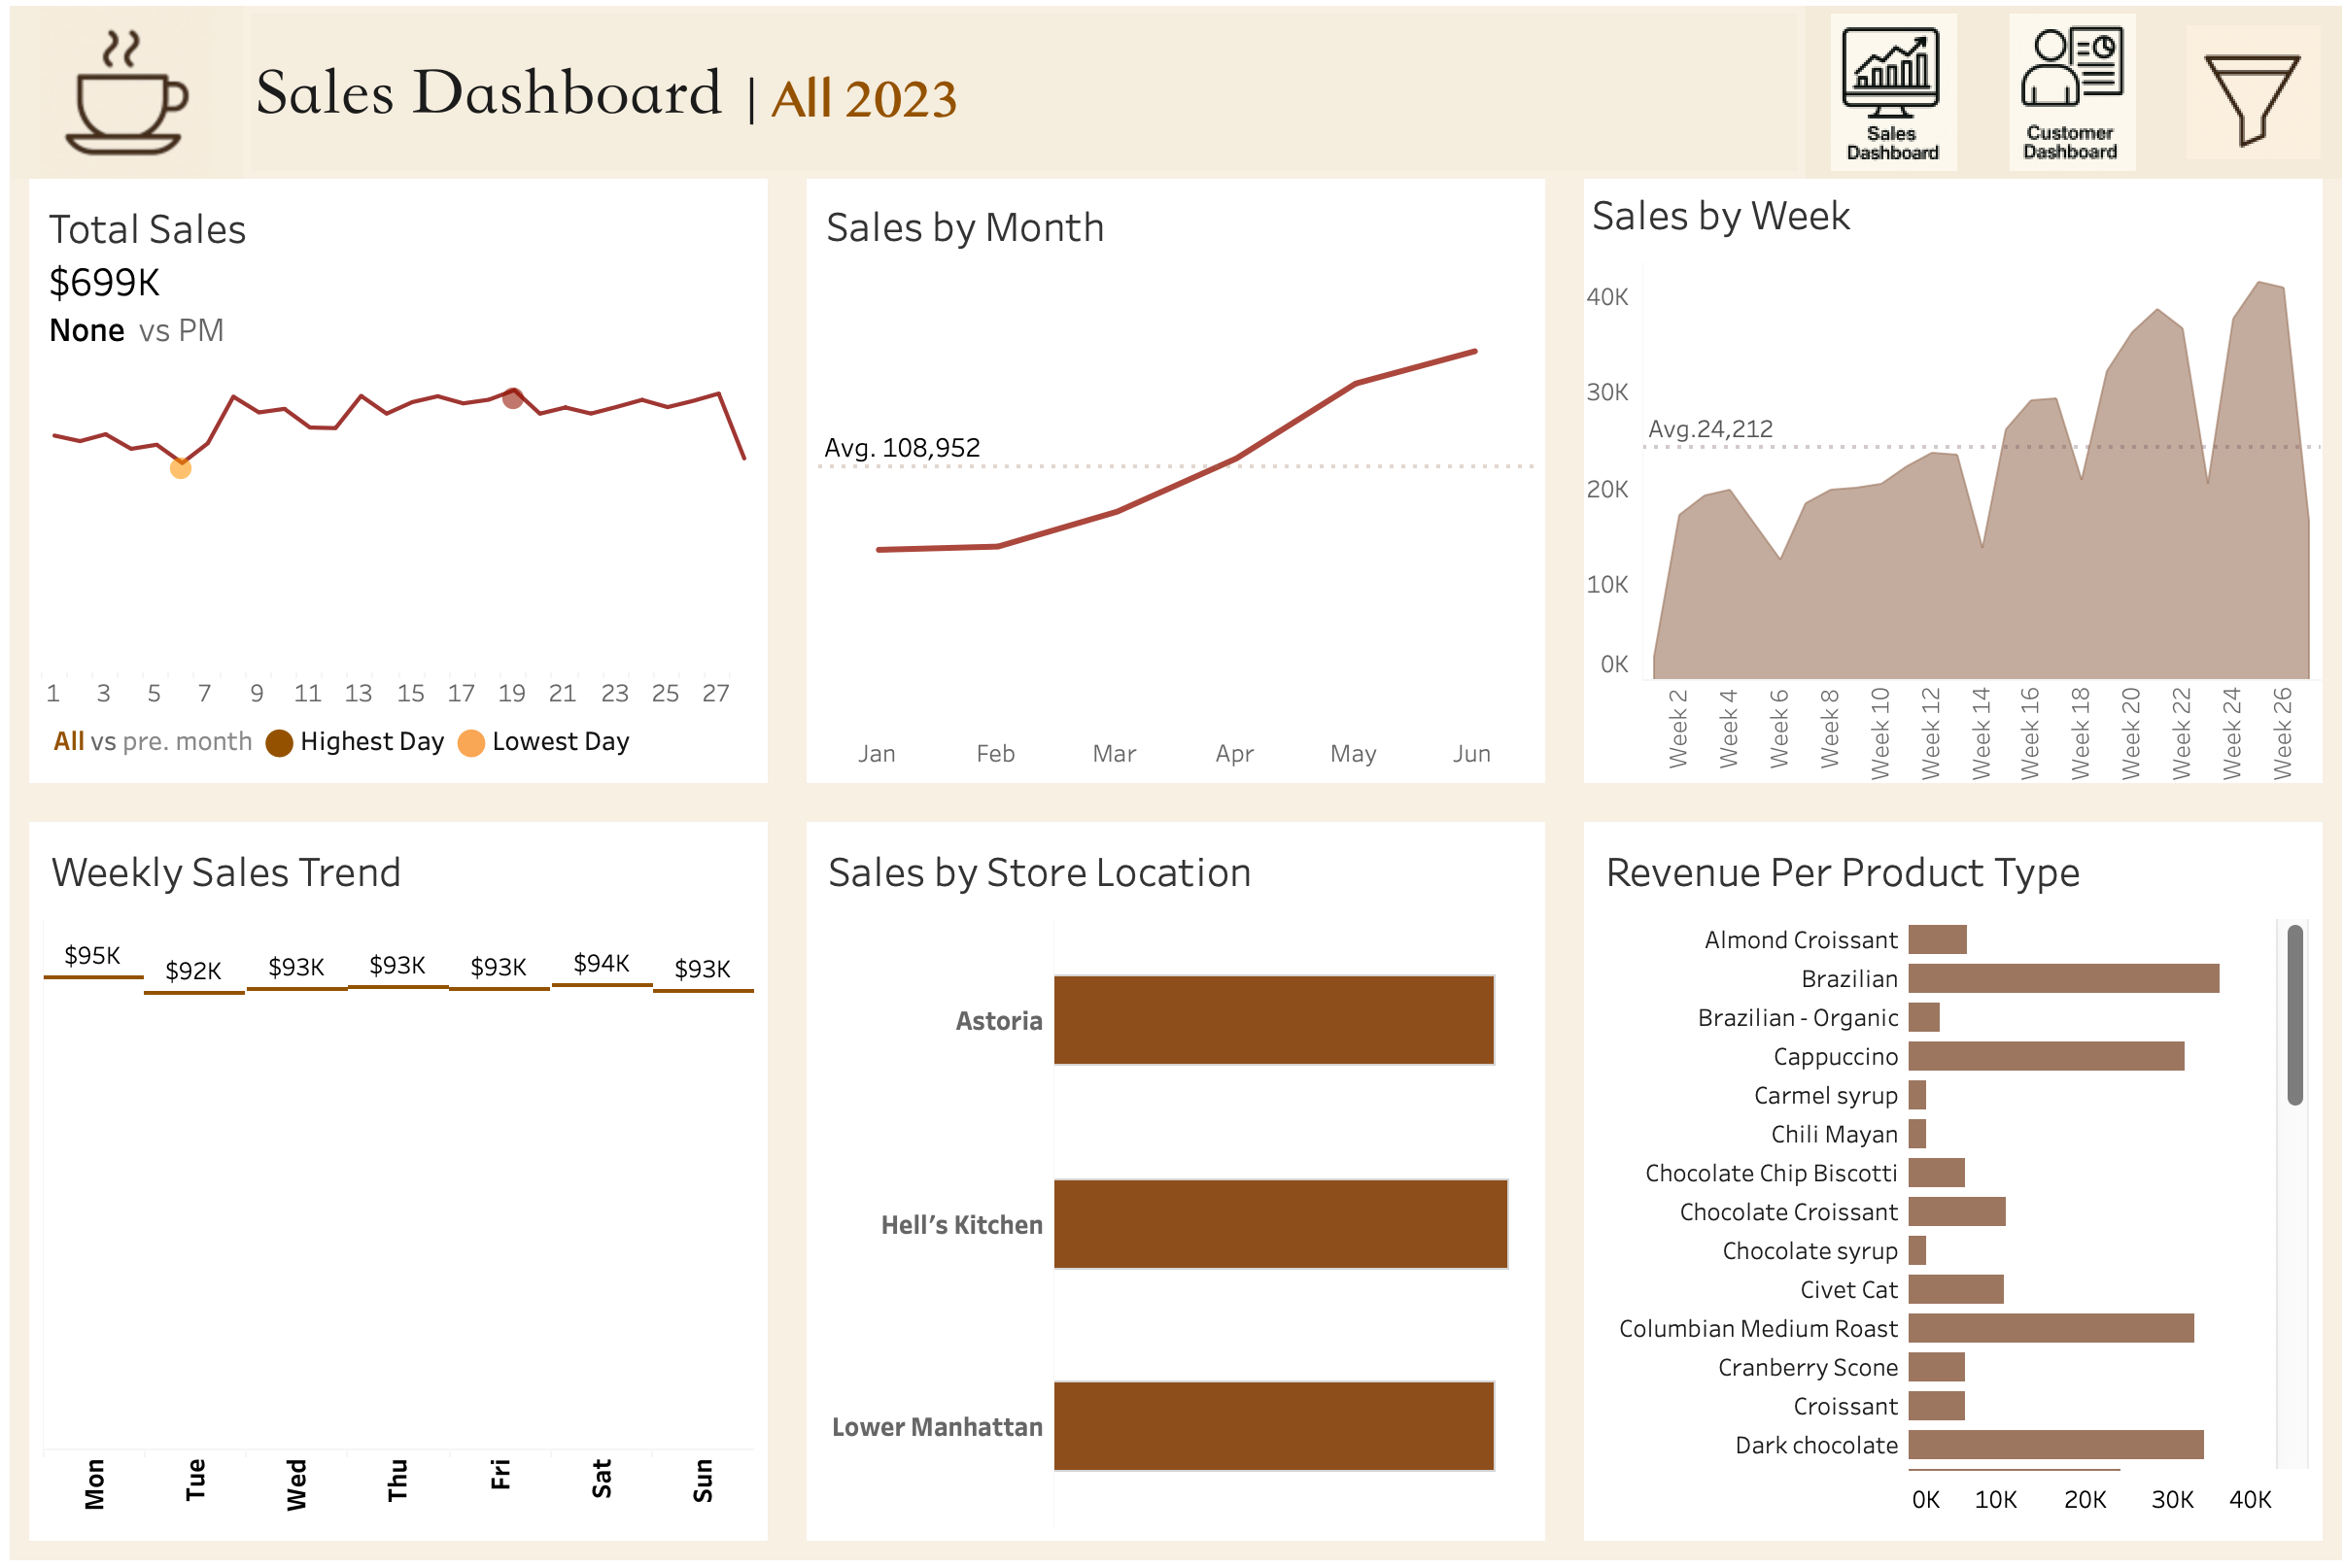

What the dashboard file says about the page in this screenshot:
{"tool":"tableau","page":{"name":"Sales Dashboard","canvas":[1200,800],"ordinal":1},"visuals":[{"type":"image","param":"Image/Icon2.png","box":[0,0,120,89]},{"type":"text","box":[120,0,804,89]},{"type":"dashboard-object","box":[924,0,92,89]},{"type":"dashboard-object","box":[1016,0,92,89]},{"type":"dashboard-object","box":[1108,0,92,89]},{"type":"worksheet","title":"Sales by Month","mark":"Line","rows":["Total_Bill","Calculation_2566559271124299778"],"cols":["transaction_date"],"box":[400,89,400,321]},{"type":"worksheet","title":"Sales by Week","mark":"Area","rows":["Total_Bill"],"cols":["transaction_date"],"box":[800,89,400,321]},{"type":"worksheet","title":"KPI Sales","mark":"Line","rows":["Calculation_5126011232724000768"],"cols":["transaction_date"],"box":[16,95,368,267]},{"type":"text","box":[908,97,284,47.3]},{"type":"parameter","param":"[Parameters].[Parameter 1]","box":[908,144.3,284,47.3]},{"type":"text","box":[908,191.7,284,43]},{"type":"filter","title":"KPI Sales","param":"[federated.1cw3f6g1wk77oe1g50jml00lt89d].[none:product_category:nk]","box":[908,234.7,284,47.3]},{"type":"filter","title":"KPI Sales","param":"[federated.1cw3f6g1wk77oe1g50jml00lt89d].[none:Size:nk]","box":[908,282,284,46]},{"type":"text","box":[908,328,284,42]},{"type":"text","box":[16,362,368,32]},{"type":"filter","title":"KPI Sales","param":"[federated.1cw3f6g1wk77oe1g50jml00lt89d].[none:store_location:nk]","box":[908,370,284,32]},{"type":"worksheet","title":"Weekly Sales Trend","mark":"GanttBar","rows":["Calculation_4496562815699218435"],"cols":["transaction_date"],"box":[0,410,400,390]},{"type":"worksheet","title":" Revenue By Store Location","mark":"Bar","rows":["store_location"],"cols":["Total_Bill"],"box":[400,410,400,390]},{"type":"worksheet","title":"Revenue Per Product Type","mark":"Bar","rows":["product_detail"],"cols":["Total_Bill"],"box":[800,410,400,390]}]}

Visuals, with their boxes in screenshot pixels (x1, y1, x2, y2), scaled from the page's 1200x800 canvas onto the 2344x1568 screenshot:
image: [0, 0, 234, 175]
text: [234, 0, 1805, 175]
dashboard-object: [1805, 0, 1984, 175]
dashboard-object: [1984, 0, 2164, 175]
dashboard-object: [2164, 0, 2343, 175]
"Sales by Month" worksheet (Line marks): [781, 175, 1563, 803]
"Sales by Week" worksheet (Area marks): [1563, 175, 2343, 803]
"KPI Sales" worksheet (Line marks): [31, 187, 750, 709]
text: [1774, 190, 2328, 283]
parameter: [1774, 283, 2328, 376]
text: [1774, 376, 2328, 460]
"KPI Sales" filter: [1774, 460, 2328, 553]
"KPI Sales" filter: [1774, 553, 2328, 643]
text: [1774, 643, 2328, 725]
text: [31, 709, 750, 772]
"KPI Sales" filter: [1774, 725, 2328, 788]
"Weekly Sales Trend" worksheet (GanttBar marks): [0, 803, 781, 1567]
" Revenue By Store Location" worksheet (Bar marks): [781, 803, 1563, 1567]
"Revenue Per Product Type" worksheet (Bar marks): [1563, 803, 2343, 1567]
